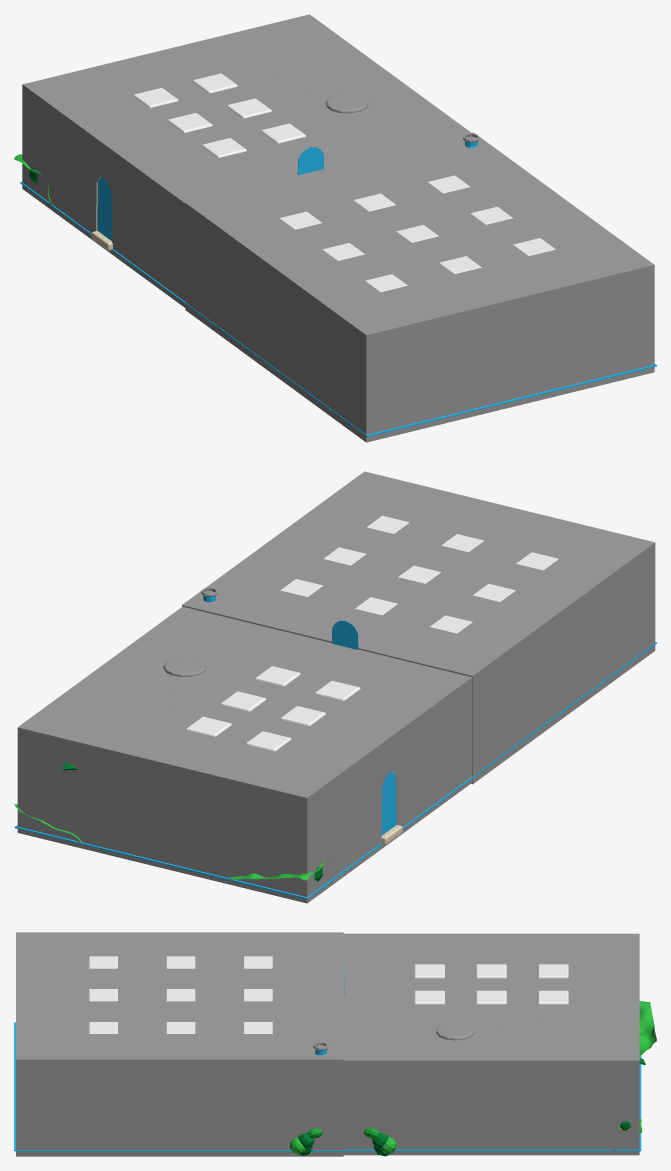
File: SceneRecuperation_Draco.glb
3 views of the same model, one above another, from view 1: azimuth 30°, elevation 25°; view 2: azimuth 150°, elevation 25°; view 3: azimuth 270°, elevation 25° (orthographic). The views are drawn at different scales.
Parts seen in each view (by area): view 1: room2, room1, Polygone, porte.1, shower; view 2: room1, room2, Polygone, porte.1, shower, porte; view 3: room2, room1, Polygone, light 4 (×2), light 3 (×2), light 0 (×2), light 1 (×2), light 5 (×2), light 2 (×2), Plan, shower, light 6 (+2 smaller).
Part boxes in pixels (box(x1,y1,x2,y2)): room2: box(185, 132, 654, 442); room1: box(22, 14, 471, 307); Polygone: box(20, 177, 656, 436); porte.1: box(97, 177, 111, 240); shower: box(326, 93, 368, 113); room1: box(17, 606, 472, 903); room2: box(182, 471, 655, 784); Polygone: box(14, 642, 656, 899); porte.1: box(381, 771, 396, 835); shower: box(163, 657, 206, 676); porte: box(332, 620, 358, 649); room2: box(16, 932, 343, 1156); room1: box(343, 933, 639, 1155); Polygone: box(14, 1022, 641, 1151); light 4 (×2): box(166, 964, 568, 1001); light 3 (×2): box(166, 956, 506, 1004); light 0 (×2): box(89, 956, 444, 978); light 1 (×2): box(89, 989, 444, 1004); light 5 (×2): box(166, 990, 568, 1033); light 2 (×2): box(89, 964, 506, 1033); Plan: box(639, 1001, 656, 1055); shower: box(436, 1022, 474, 1040); light 6: box(244, 956, 272, 968).
Bounding box in the file's own units: 10.13 × 4.61 × 20.78.
